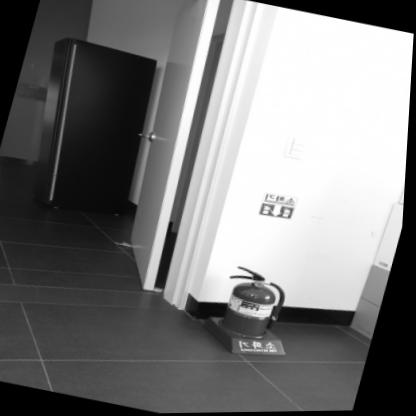FE: (201, 262, 310, 365)
